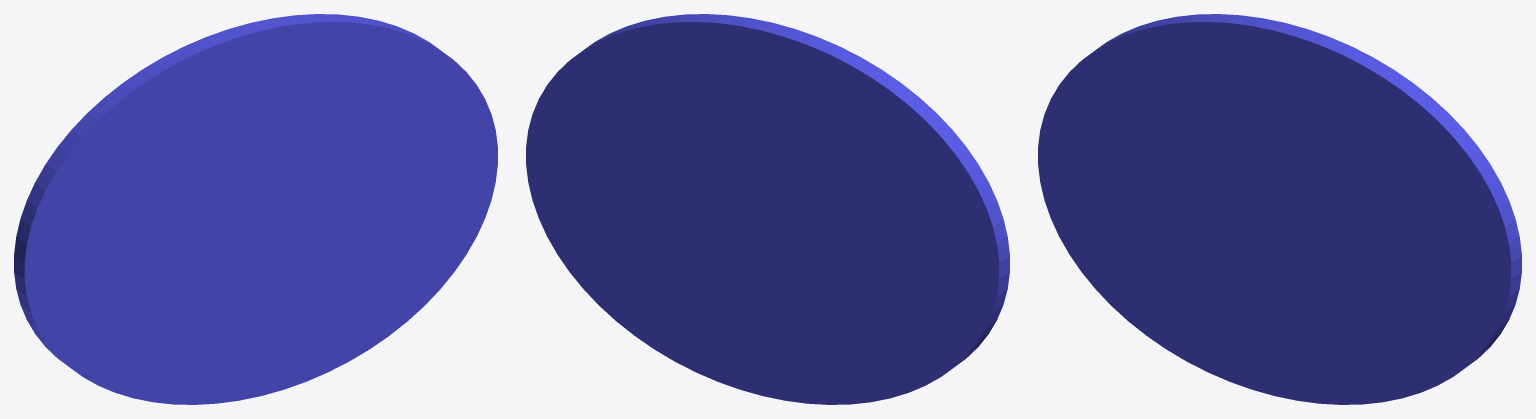
File: moist_sign.fbx
3 renders of one model, left to right at view 1: azimuth 30°, elevation 25°; view 2: azimuth 150°, elevation 25°; view 3: azimuth 330°, elevation 25°, orthographic.
Parts seen in each view (by area): view 1: Cylinder.001; view 2: Cylinder.001; view 3: Cylinder.001.
Part boxes in pixels (<box>): Cylinder.001: <box>14,14,497,404</box>; Cylinder.001: <box>526,14,1009,404</box>; Cylinder.001: <box>1038,14,1521,404</box>.
Bounding box in the file's own units: 369 × 272 × 14.47.
